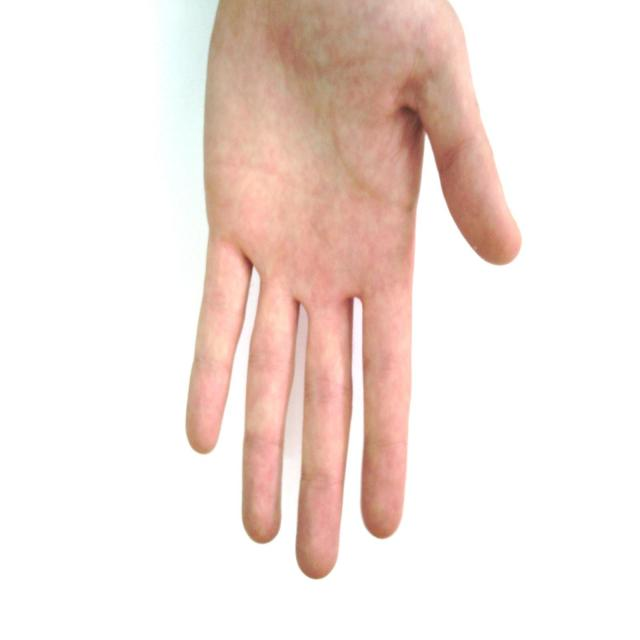others: (171, 1, 524, 588)
